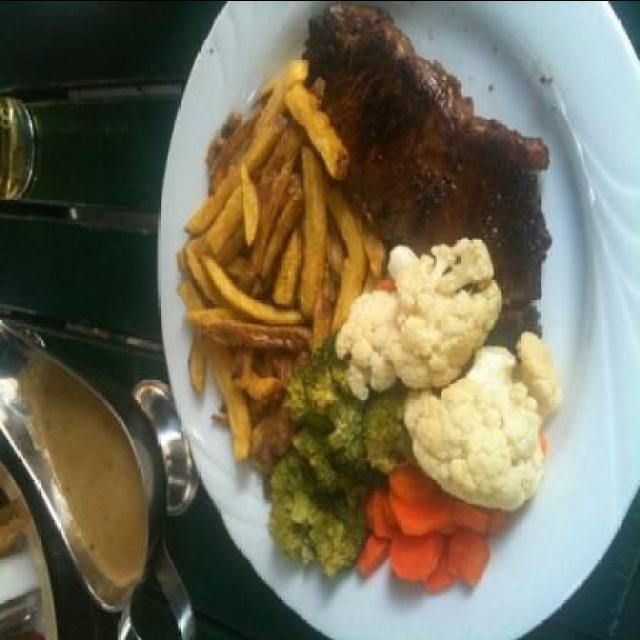Steak: (252, 51, 568, 588)
